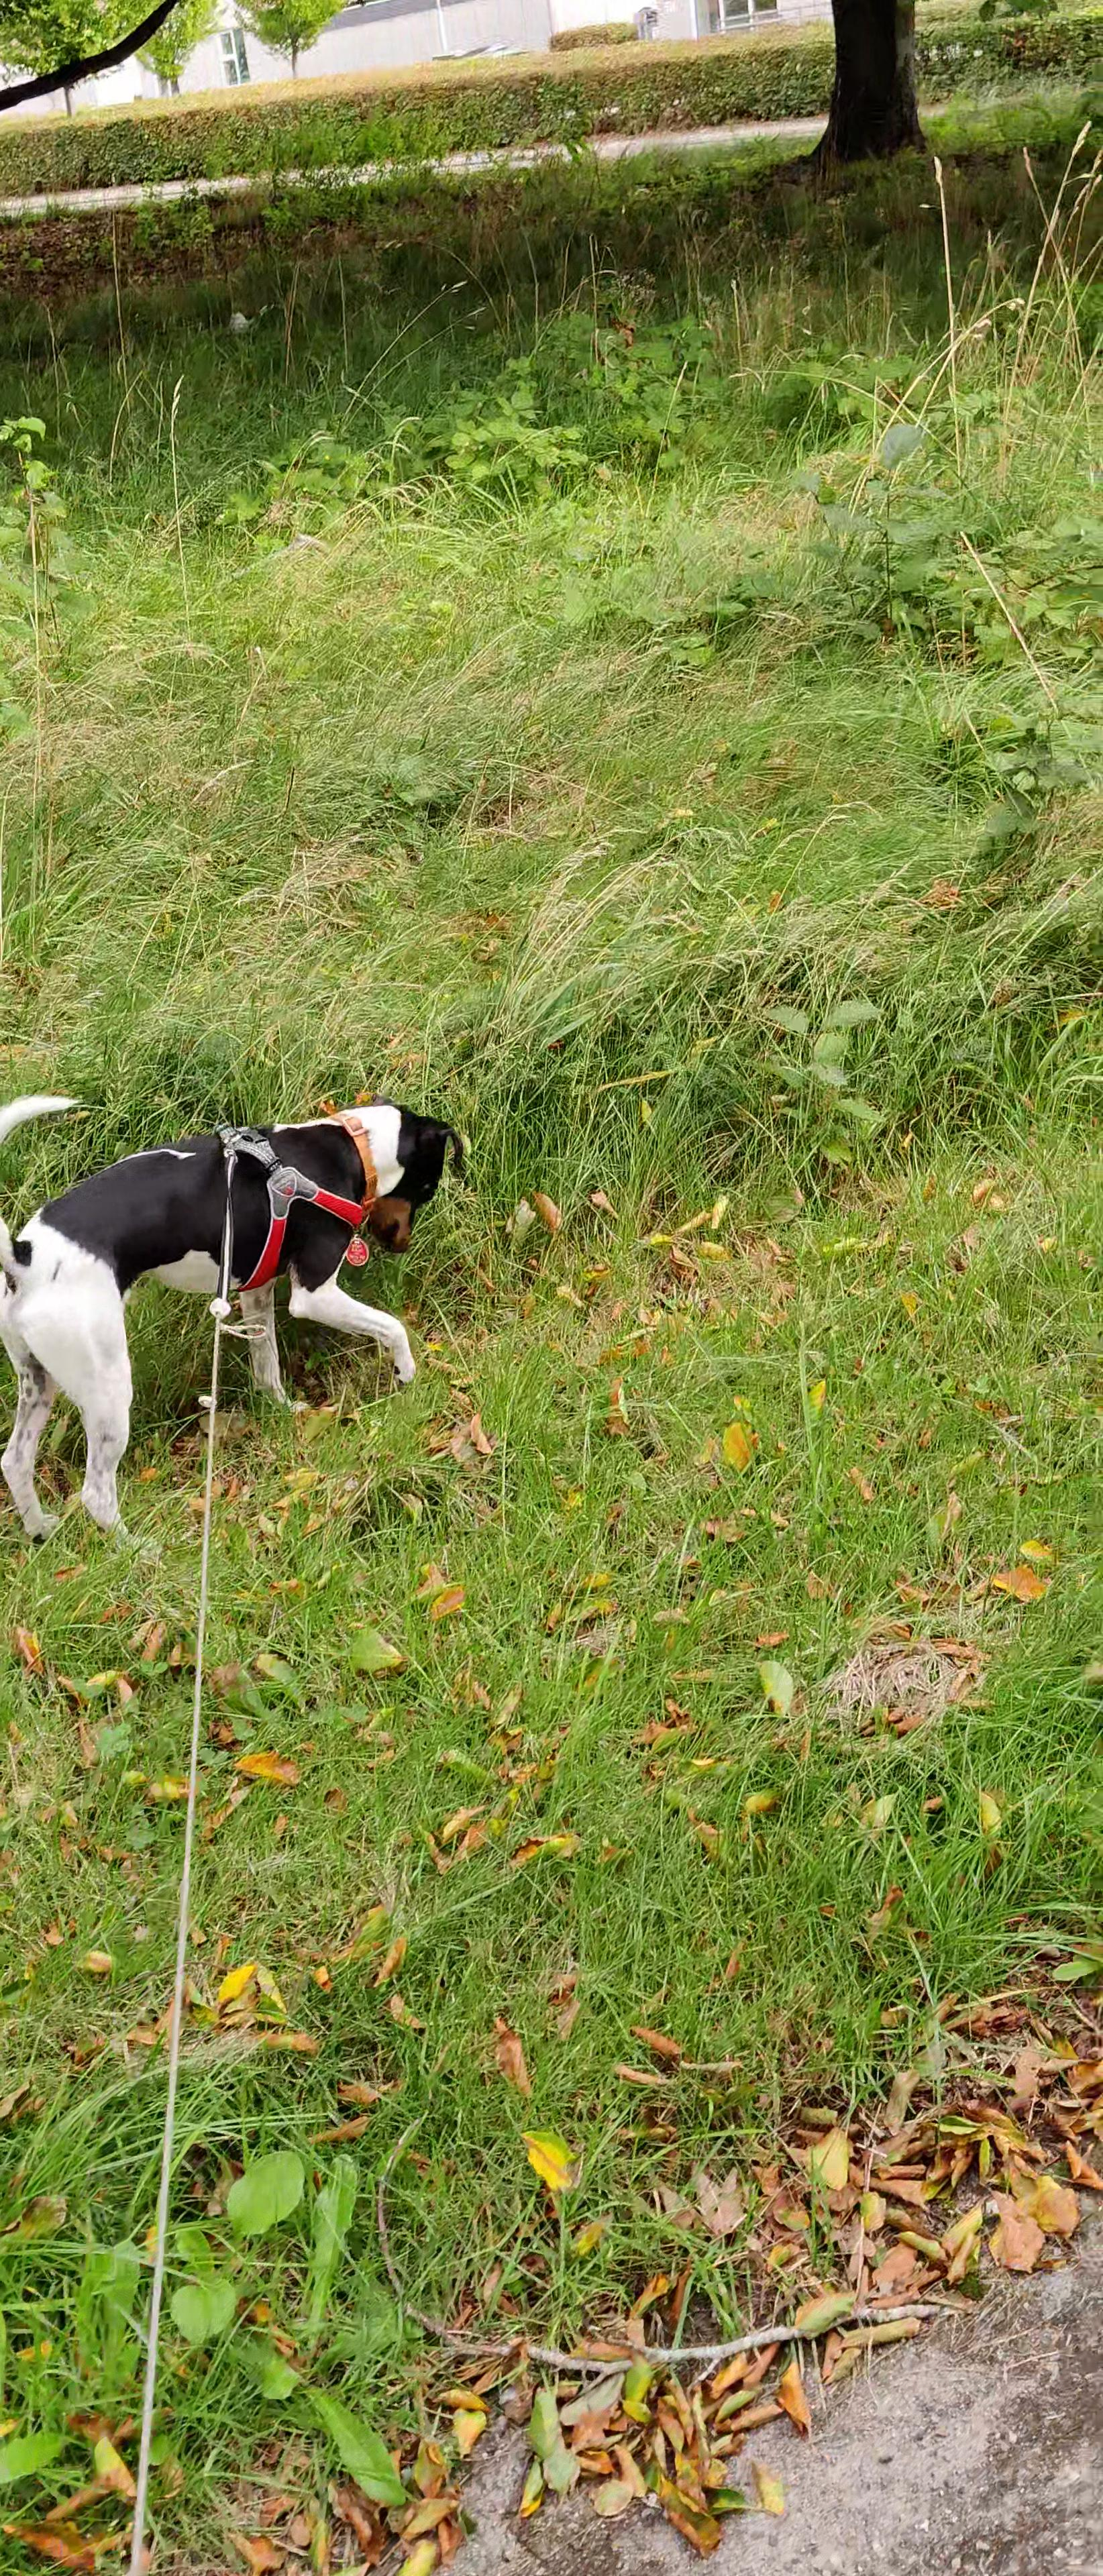Dog: (0, 1076, 473, 1549)
